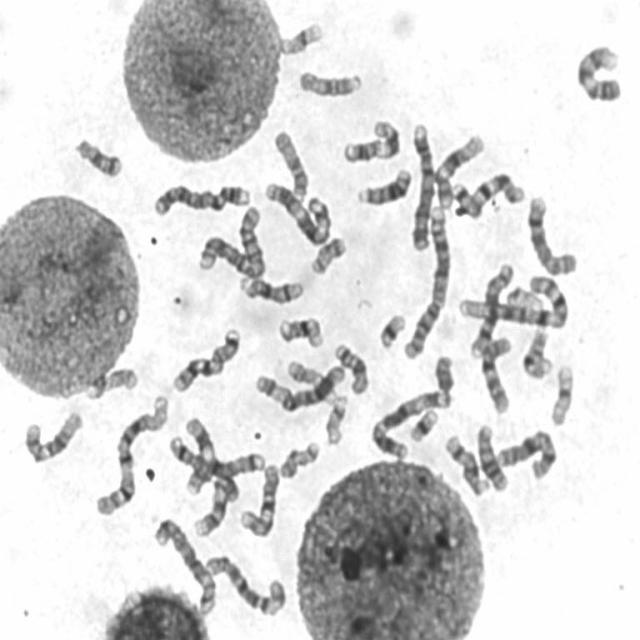A1: (91, 388, 170, 518), (454, 272, 570, 330)
A2: (398, 200, 454, 361), (194, 201, 267, 281)
A3: (367, 385, 452, 461), (261, 176, 333, 247)
B4: (149, 177, 253, 218), (406, 118, 436, 252)
B5: (150, 513, 218, 617), (166, 432, 266, 481)
C10: (236, 458, 282, 539), (477, 330, 515, 416)
C11: (338, 115, 402, 166), (181, 412, 217, 497)
C12: (430, 128, 486, 210), (19, 405, 85, 465)
C6: (202, 550, 288, 619), (252, 359, 348, 414)
C7: (168, 322, 244, 395), (448, 167, 528, 220)
C8: (466, 258, 516, 360), (523, 190, 579, 276)
C9: (190, 471, 241, 538), (573, 38, 624, 103)
D13: (472, 419, 510, 493), (352, 162, 413, 207)
D14: (441, 430, 492, 498), (235, 271, 306, 306)
D15: (269, 125, 310, 201), (294, 65, 364, 99)
E16: (518, 324, 554, 381), (274, 311, 326, 350)
E17: (282, 354, 341, 407), (82, 361, 140, 402)
E18: (71, 132, 124, 180), (330, 338, 370, 396)
F19: (546, 358, 576, 428), (275, 16, 325, 58)
F20: (275, 436, 322, 481), (307, 231, 348, 277)
G21: (404, 404, 440, 444), (375, 308, 407, 351)
G22: (321, 390, 350, 447), (503, 282, 545, 311)
X: (493, 424, 559, 482)
Y: (432, 350, 456, 395)
